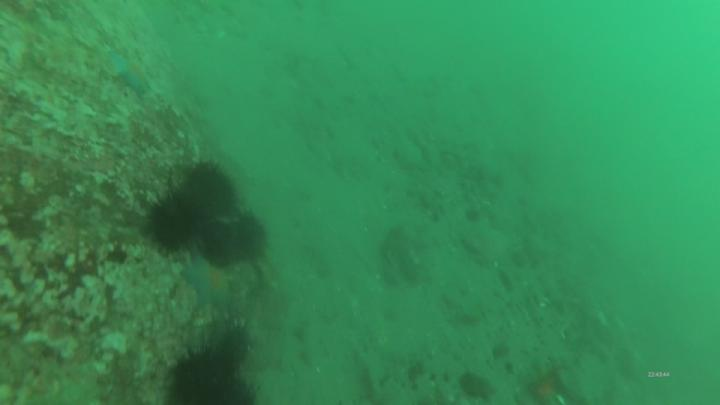echinus: (181, 162, 244, 231), (142, 191, 199, 259), (169, 346, 233, 405), (229, 214, 270, 266), (196, 218, 236, 268), (207, 369, 259, 405), (459, 368, 497, 404)
starfish: (182, 255, 241, 318), (107, 49, 157, 101)
